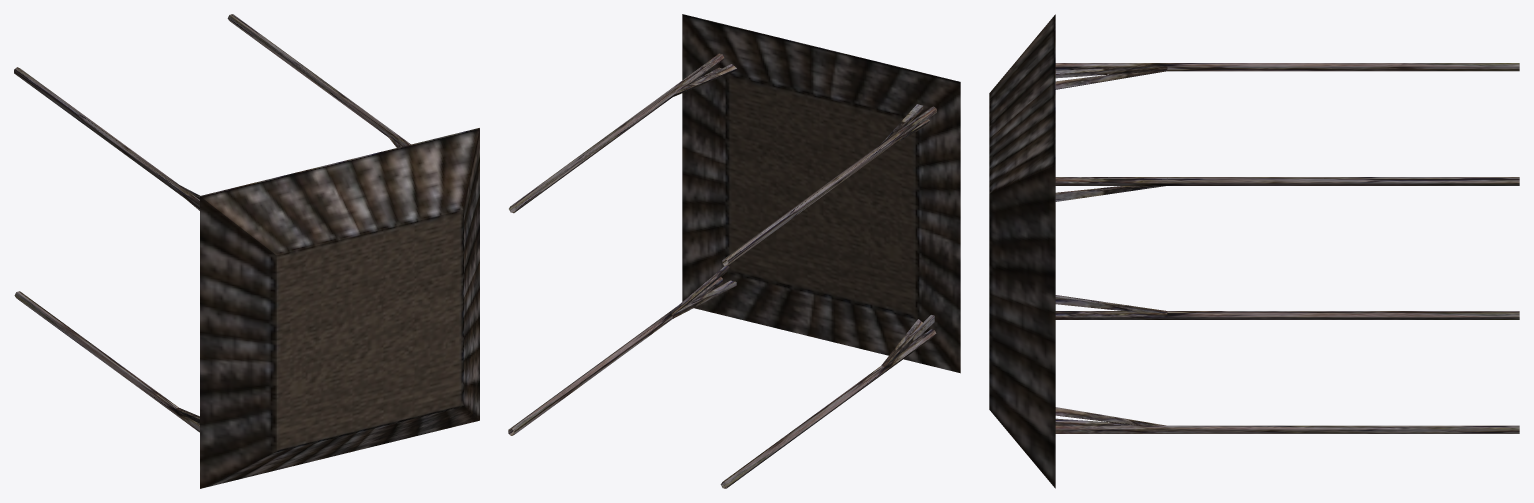
File: pav.obj
3 renders of one model, left to right at view 1: azimuth 30°, elevation 25°; view 2: azimuth 150°, elevation 25°; view 3: azimuth 270°, elevation 25°, orthographic. The views are drawn at different scales.
Visible parts, largest first — view 1: pavillion1_Cylinder.005; view 2: pavillion1_Cylinder.005; view 3: pavillion1_Cylinder.005.
Boxes of the visible parts, left/top/right/bottom form: pavillion1_Cylinder.005: left=14, top=14, right=479, bottom=488; pavillion1_Cylinder.005: left=508, top=14, right=960, bottom=488; pavillion1_Cylinder.005: left=989, top=14, right=1519, bottom=488.
Bounding box in the file's own units: 1.77 × 1.77 × 2.62.
